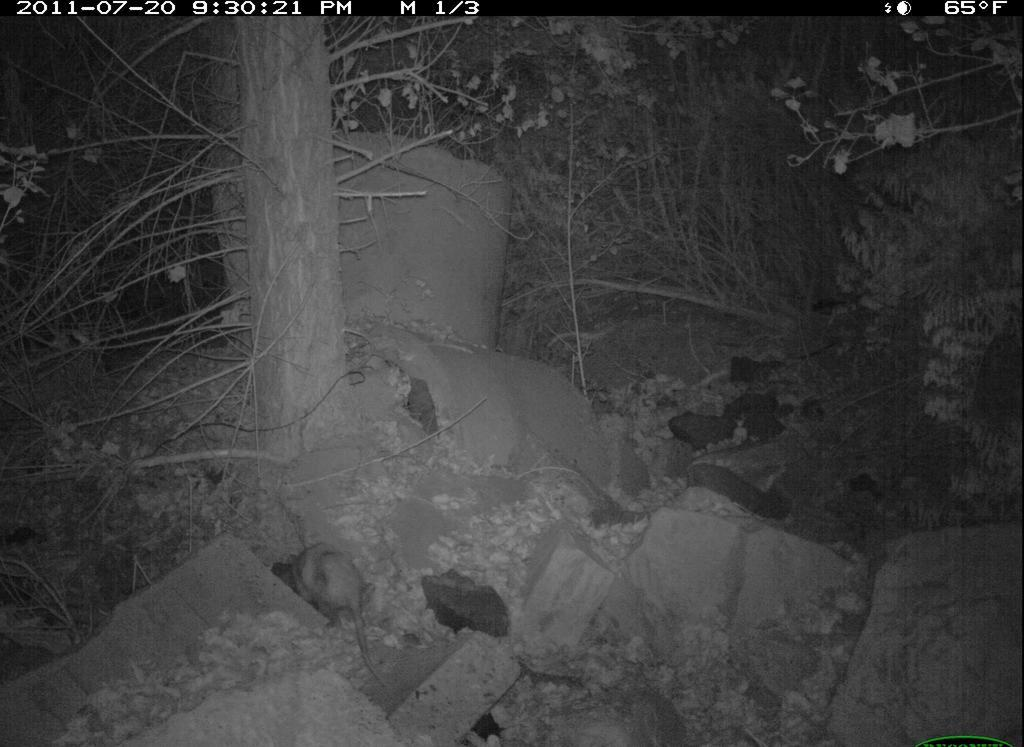opossum: (254, 516, 409, 707)
